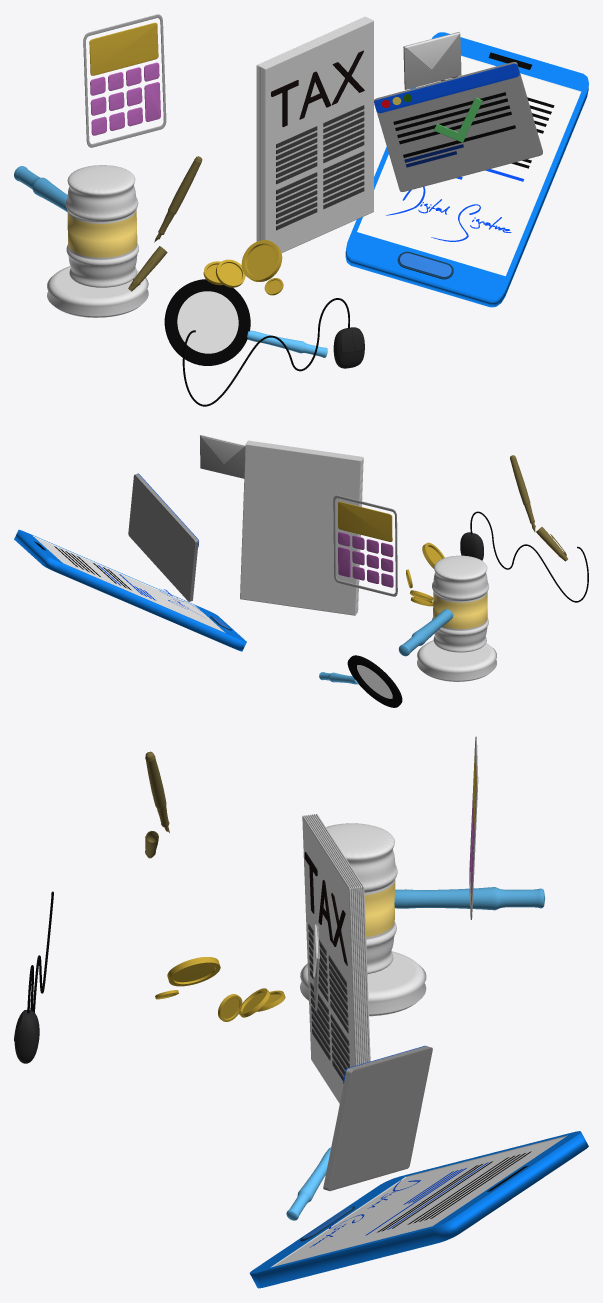
Rendered from Tax.fbx.
3 renders of one model, top to bottom at view 1: azimuth 30°, elevation 25°; view 2: azimuth 150°, elevation 25°; view 3: azimuth 270°, elevation 25°, orthographic. The views are drawn at different scales.
Visible parts, largest first — view 1: mobile, Plane, Cube.002, Cylinder, Plane.006, magnifing_glass, Torus, Circle.005, Plane.013, Plane.005, Plane.003, Text (+12 smaller); view 2: Plane, mobile, Cube.002, Cylinder, Plane.006, Torus, magnifing_glass, Plane.005, Cylinder.001, Circle.005, Plane.007, BezierCurve.001 (+4 smaller); view 3: mobile, Plane, Cube.002, Cylinder, Torus, Cylinder.001, Circle.005, Plane.008, Cube, Text, magnifing_glass, Plane.002 (+5 smaller).
Boxes of the visible parts, x1,y1,x2,y2 form: mobile: (345, 32, 588, 307); Plane: (256, 16, 373, 252); Cube.002: (374, 62, 542, 191); Cylinder: (65, 165, 138, 287); Plane.006: (83, 14, 166, 147); magnifing_glass: (164, 279, 327, 365); Torus: (47, 266, 148, 317); Circle.005: (203, 240, 283, 295); Plane.013: (393, 92, 515, 167); Plane.005: (403, 32, 461, 89); Plane.003: (276, 172, 317, 230); Text: (271, 50, 364, 126); Plane: (240, 440, 363, 615); mobile: (14, 529, 246, 651); Cube.002: (128, 473, 198, 601); Cylinder: (432, 555, 489, 652); Plane.006: (333, 495, 397, 596); Torus: (417, 640, 496, 681); magnifing_glass: (319, 655, 402, 707); Plane.005: (200, 435, 245, 478); Cylinder.001: (398, 609, 453, 656); Circle.005: (406, 542, 444, 606); Plane.007: (201, 435, 244, 463); BezierCurve.001: (470, 511, 588, 602); mobile: (249, 1131, 588, 1288); Plane: (302, 814, 370, 1103); Cube.002: (323, 1045, 432, 1191); Cylinder: (326, 823, 397, 973); Torus: (300, 951, 426, 1016); Cylinder.001: (394, 887, 545, 910); Circle.005: (155, 957, 285, 1021); Plane.008: (365, 1151, 531, 1235); Cube: (14, 1010, 39, 1063); Text: (304, 852, 347, 965); magnifing_glass: (286, 1147, 330, 1220); Plane.002: (328, 955, 348, 1033).
Bounding box in the file's own units: 290 × 148 × 200.
